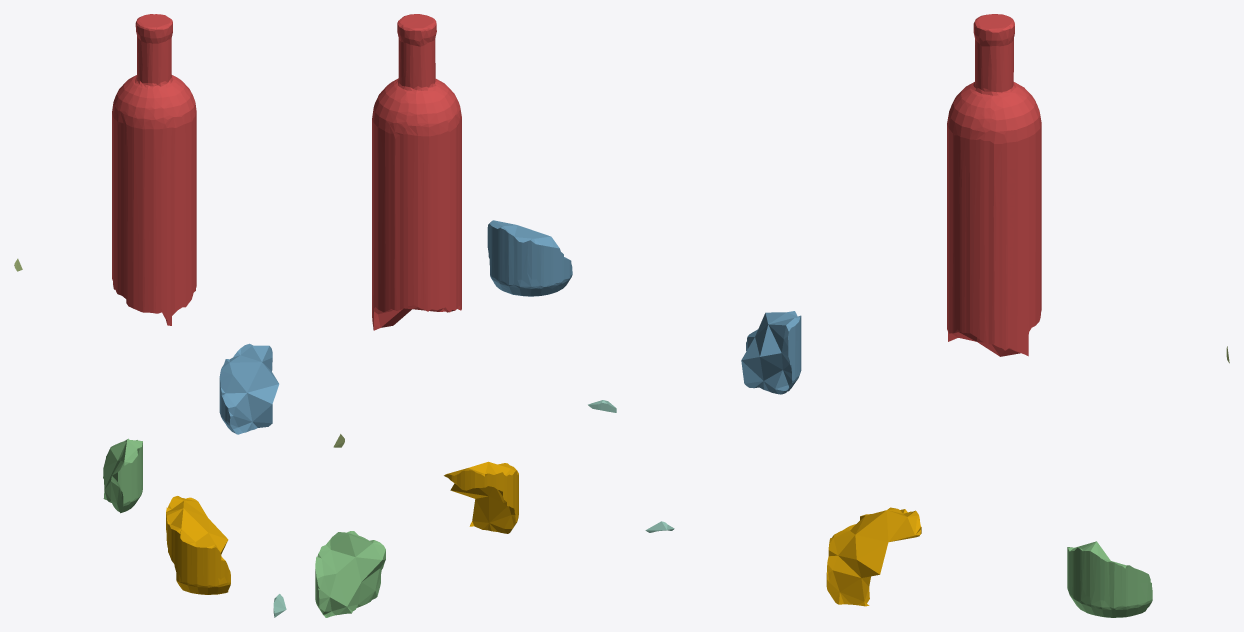
The model's file is mode_6_6pcs_transformed.glb.
The picture shows the model from 3 angles, left to right: view 1: azimuth 30°, elevation 25°; view 2: azimuth 150°, elevation 25°; view 3: azimuth 270°, elevation 25°; orthographic projection. The views are drawn at different scales.
Parts seen in each view (by area): view 1: piece_1.obj, piece_0.obj, piece_2.obj, piece_3.obj; view 2: piece_1.obj, piece_2.obj, piece_3.obj, piece_0.obj; view 3: piece_1.obj, piece_0.obj, piece_3.obj, piece_2.obj.
Boxes of the visible parts, <box> form: piece_1.obj: <box>112,14,196,325</box>; piece_0.obj: <box>166,496,230,594</box>; piece_2.obj: <box>219,343,279,434</box>; piece_3.obj: <box>103,438,142,513</box>; piece_1.obj: <box>372,14,461,330</box>; piece_2.obj: <box>487,220,572,296</box>; piece_3.obj: <box>315,531,385,617</box>; piece_0.obj: <box>444,461,518,533</box>; piece_1.obj: <box>947,14,1041,356</box>; piece_0.obj: <box>826,507,921,606</box>; piece_3.obj: <box>1067,541,1152,617</box>; piece_2.obj: <box>741,311,801,394</box>.
Size of the model in its own units: 0.237 by 1.6 by 1.46.
